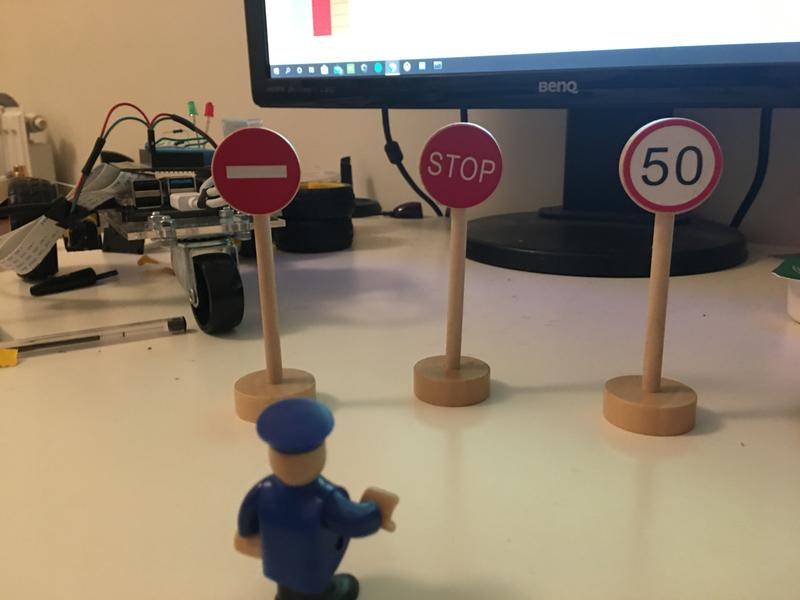Traffic_Sign_50: (619, 119, 724, 215)
Traffic_Sign_No_Entry: (211, 129, 302, 214)
Traffic_Sign_Stop: (420, 120, 501, 208)
person: (226, 393, 398, 600)
